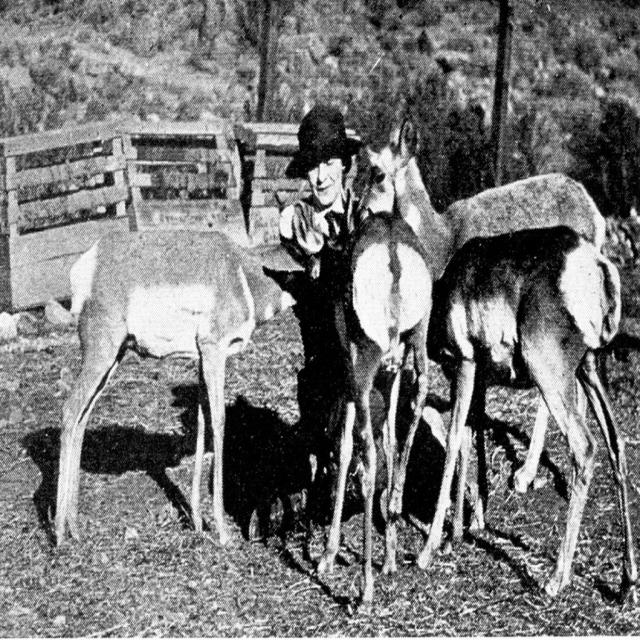Deer: (359, 120, 604, 497), (413, 221, 639, 613), (54, 228, 318, 546), (318, 185, 435, 616)
